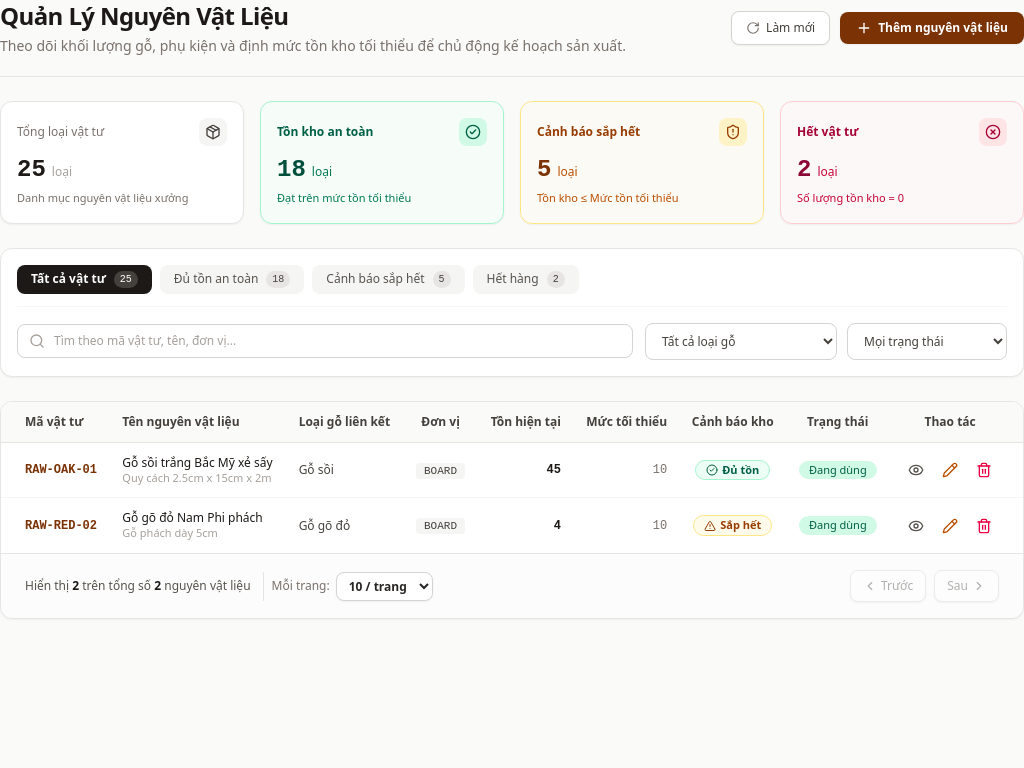
Scenario: ManageMaterialsPage Component › opens delete modal when clicking Trash icon button
Check: the text "RAW-OAK-01" is shown, box [1,442,110,498]
Click the button with test id "delete-material-1" at (984, 470), box [970,456,998,484]
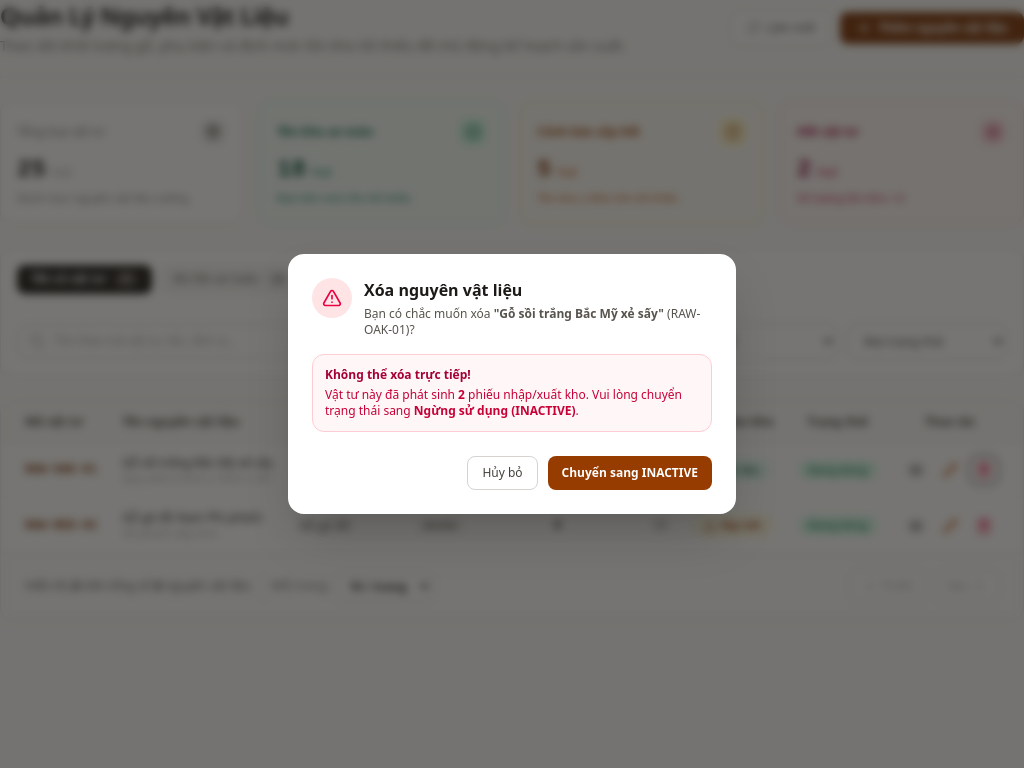
Check: the heading "Xóa nguyên vật liệu" is shown, box [364,279,522,301]
